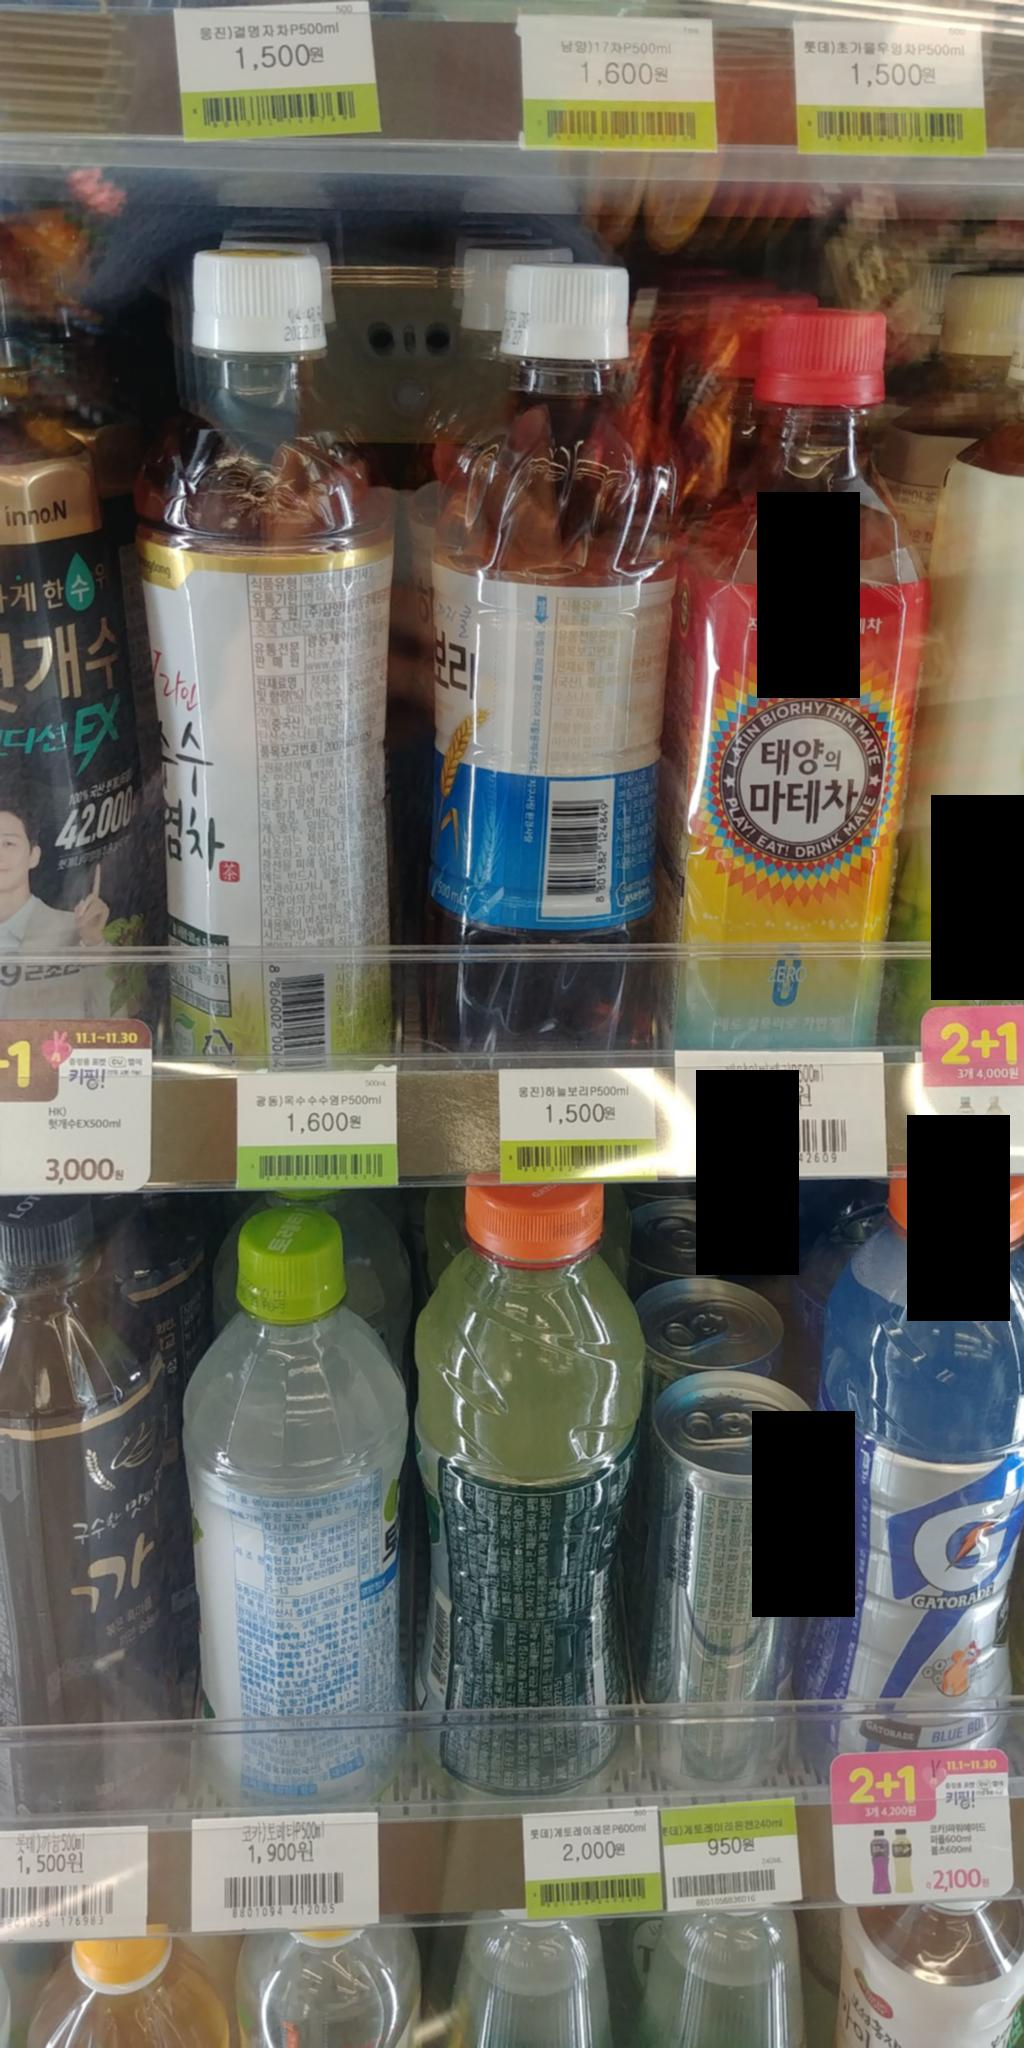gatorade_lemon: (372, 1166, 660, 1799)
haneulbori: (389, 248, 688, 1058)
oksususuyeomcha: (101, 221, 413, 1087)
toreta: (154, 1199, 418, 1816)
